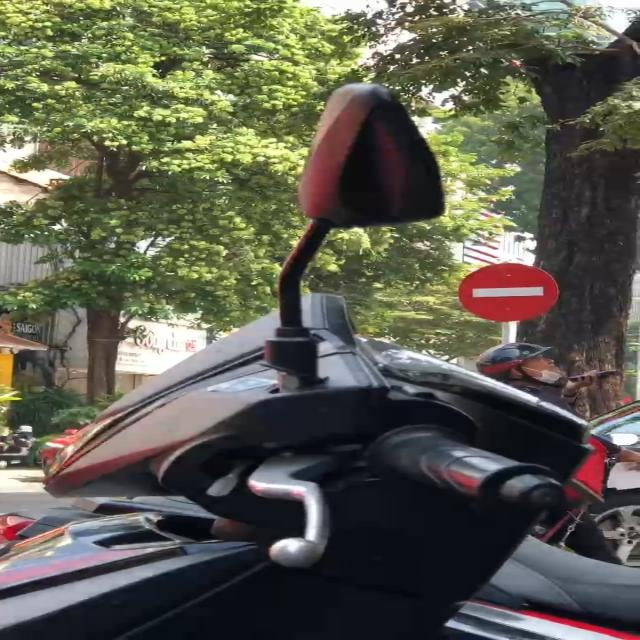Bien bao cam di nguoc chieu: (451, 258, 562, 324)
